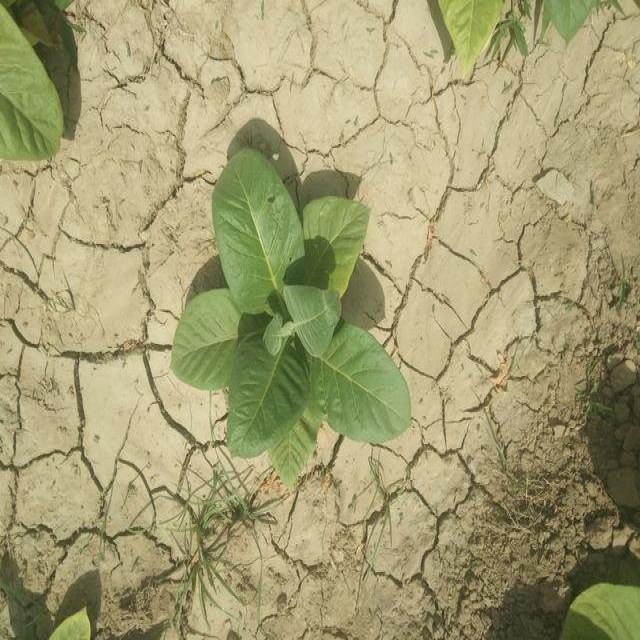crop: (184, 132, 406, 475), (0, 5, 73, 171), (442, 0, 600, 56), (563, 576, 640, 640), (50, 612, 106, 640)
